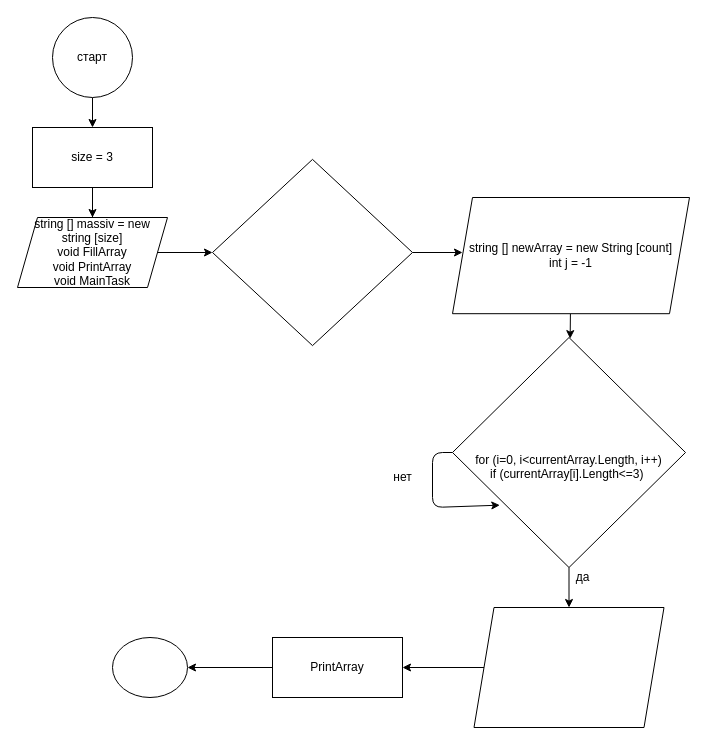
This 707x745 diagram has some shape labels left out. Here are the shapes that lost their labels. From the top down, the box of each, then its label:
(212, 158, 412, 346): for (i=0, i<currentArray.Length, i++) if (currentArray[i].Length<=3) count++
(112, 636, 188, 698): конец
(473, 606, 664, 728): j++ newArray [j] = currentArray [i]
